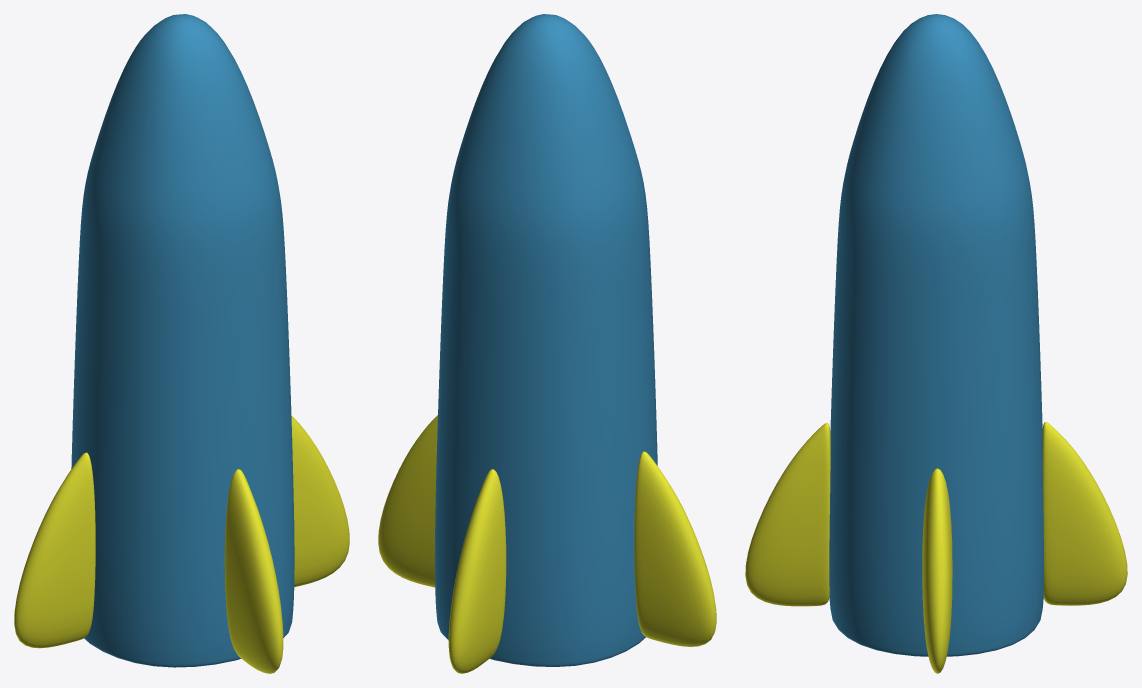
File: basicmissile.dae
3 views of the same model, side by side, from view 1: azimuth 30°, elevation 25°; view 2: azimuth 150°, elevation 25°; view 3: azimuth 270°, elevation 25° (orthographic).
Visible parts, largest first — view 1: Cube, Cube.003, Cube.002, Cube.001; view 2: Cube, Cube.003, Cube.004, Cube.001; view 3: Cube, Cube.002, Cube.004, Cube.001.
Boxes of the visible parts, box(x1,y1,x2,y2) form: Cube: box(71, 14, 294, 667); Cube.003: box(14, 452, 95, 648); Cube.002: box(224, 469, 283, 673); Cube.001: box(291, 415, 349, 586); Cube: box(435, 14, 657, 666); Cube.003: box(634, 451, 716, 646); Cube.004: box(448, 469, 506, 673); Cube.001: box(378, 415, 437, 587); Cube: box(829, 14, 1043, 656); Cube.002: box(745, 422, 830, 606); Cube.004: box(1042, 422, 1127, 605); Cube.001: box(922, 468, 952, 673).
Bounding box in the file's own units: 1.05 × 1.05 × 1.86.
